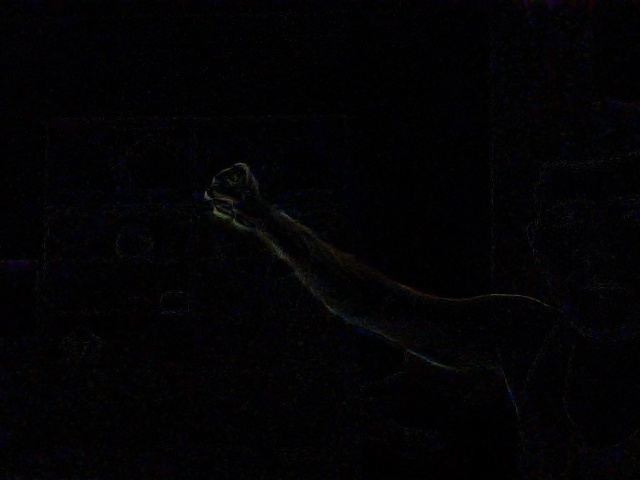hand_fi: (198, 151, 271, 236)
